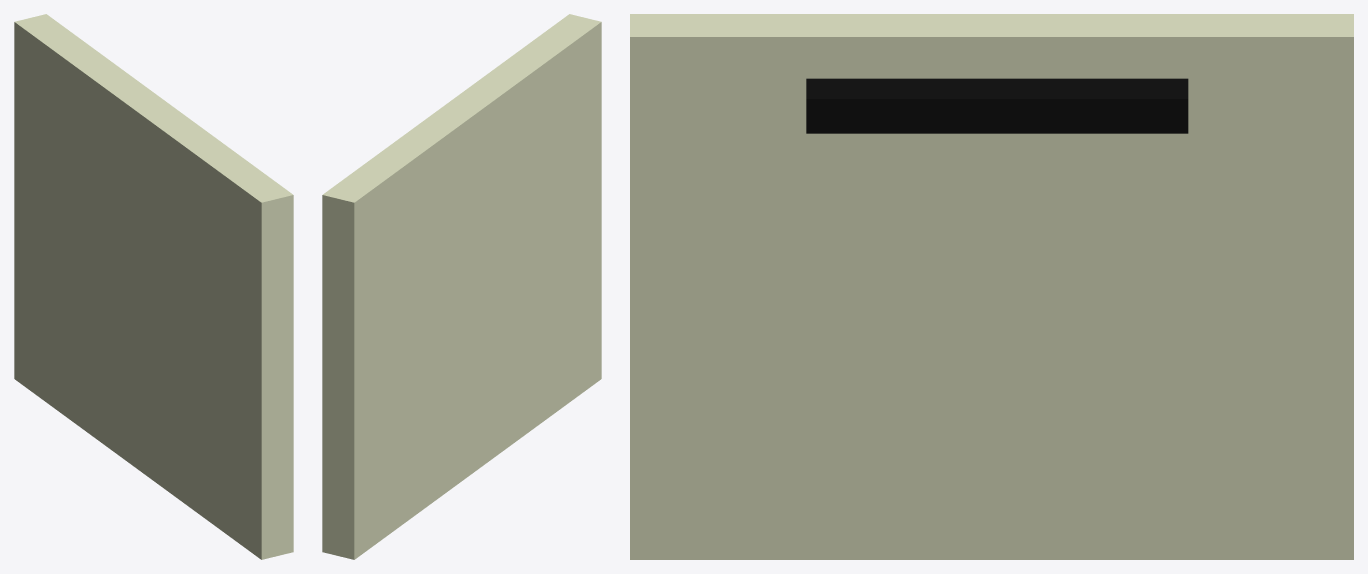
File: Oven-Door.fbx
3 views of the same model, side by side, from view 1: azimuth 30°, elevation 25°; view 2: azimuth 150°, elevation 25°; view 3: azimuth 270°, elevation 25° (orthographic). The views are drawn at different scales.
Visible parts, largest first — view 1: OvenDoor; view 2: OvenDoor; view 3: OvenDoor.
Part boxes in pixels (x1,y1,x2,y2): OvenDoor: (14, 14, 293, 559); OvenDoor: (322, 14, 601, 559); OvenDoor: (630, 14, 1353, 559).
Bounding box in the file's own units: 11.27 × 63.73 × 79.94.
